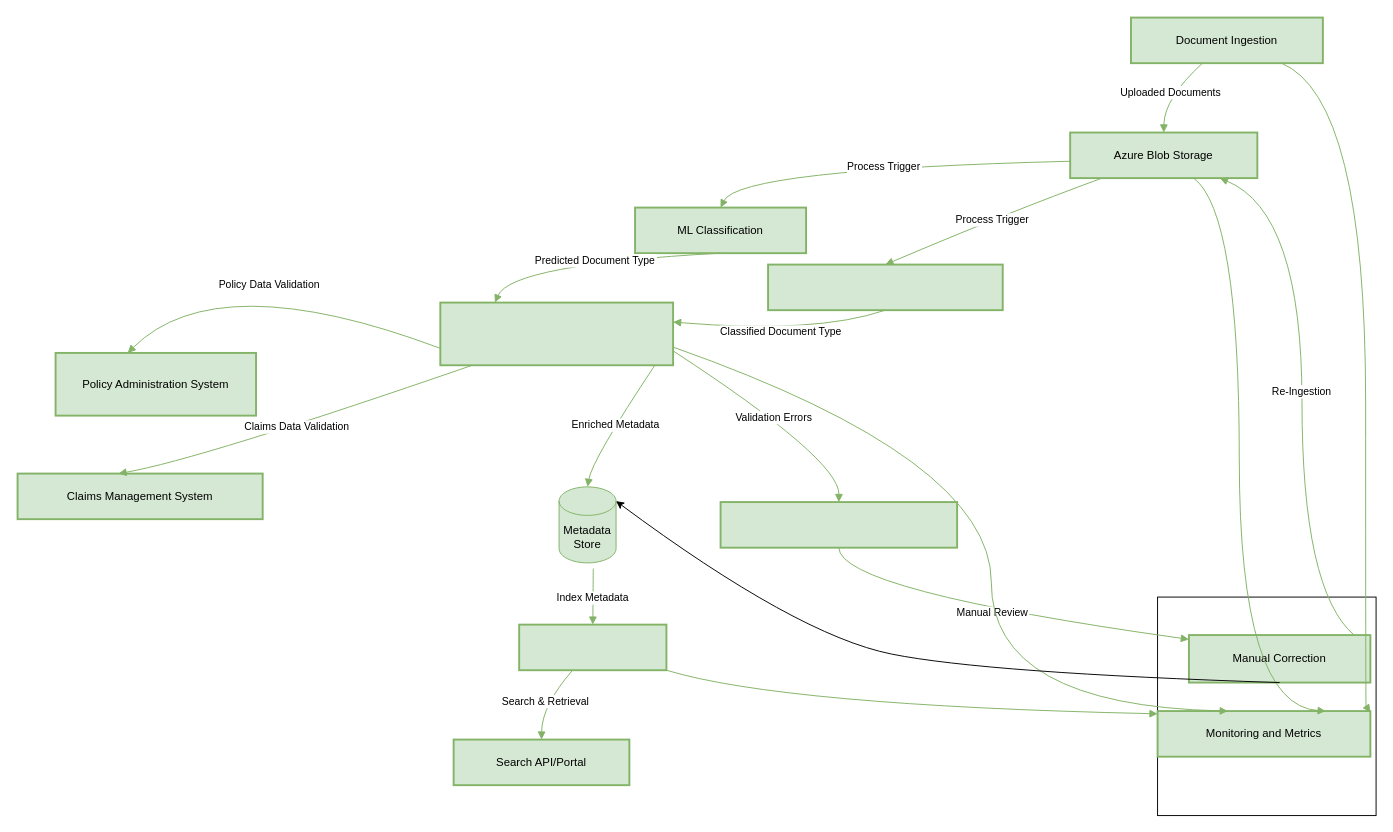
Some shapes in this 1393 by 832 pixel diagram are drawn without their labels. The centre of each missing label's shape, as x and y in pixels:
ElasticSearch: point 592,647
Flagged Documents Queue: point 838,524
Metadata Enrichment and Validation: point 556,333
Rule-Based Service Engine: point 885,287
